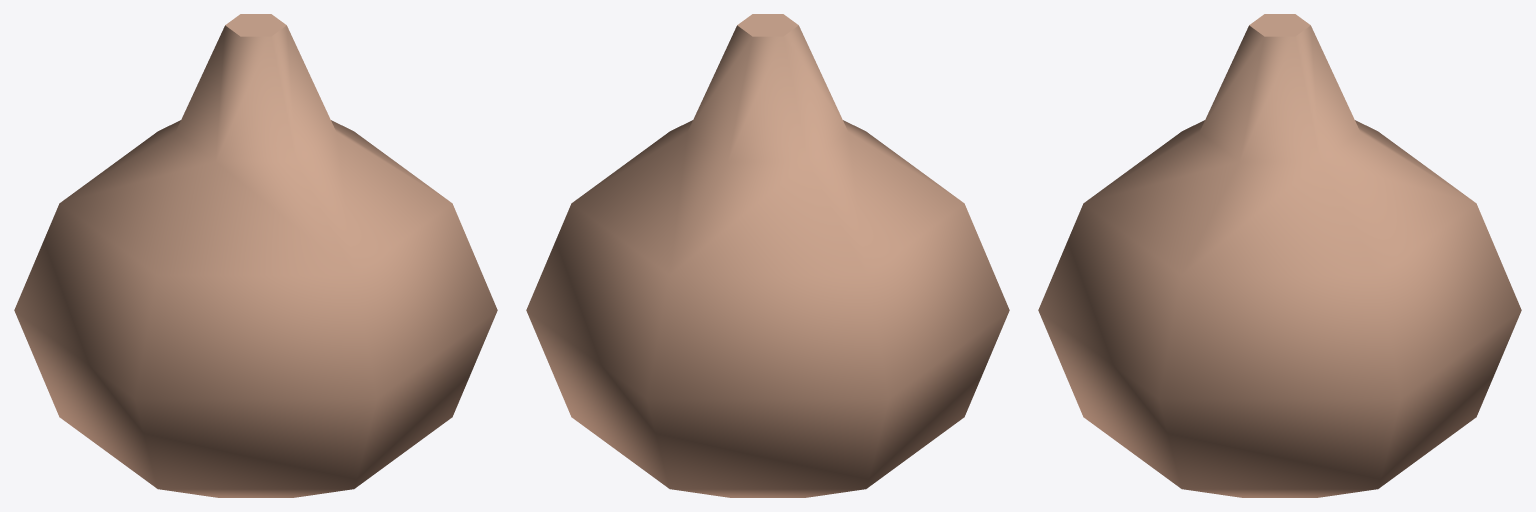
Rendered from onion.glb.
3 renders of one model, left to right at view 1: azimuth 30°, elevation 25°; view 2: azimuth 150°, elevation 25°; view 3: azimuth 270°, elevation 25°, orthographic.
Parts seen in each view (by area): view 1: onion; view 2: onion; view 3: onion.
Boxes of the visible parts, x1,y1,x2,y2 form: onion: (14, 14, 497, 497); onion: (526, 14, 1009, 497); onion: (1038, 14, 1521, 497).
Size of the model in its own units: 0.213 by 0.25 by 0.246.
